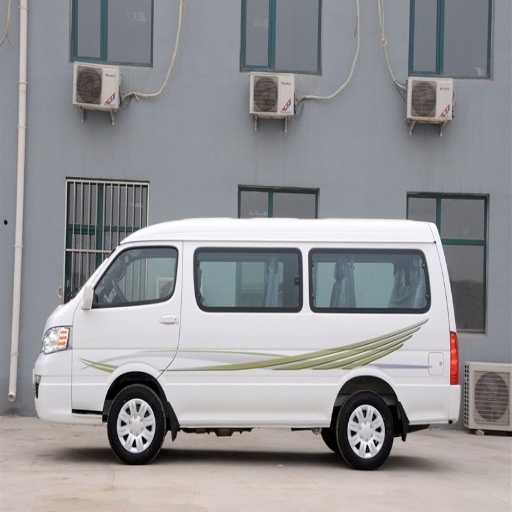back_left_door: (106, 265, 159, 327)
trunk: (98, 9, 398, 191), (394, 370, 459, 421)
